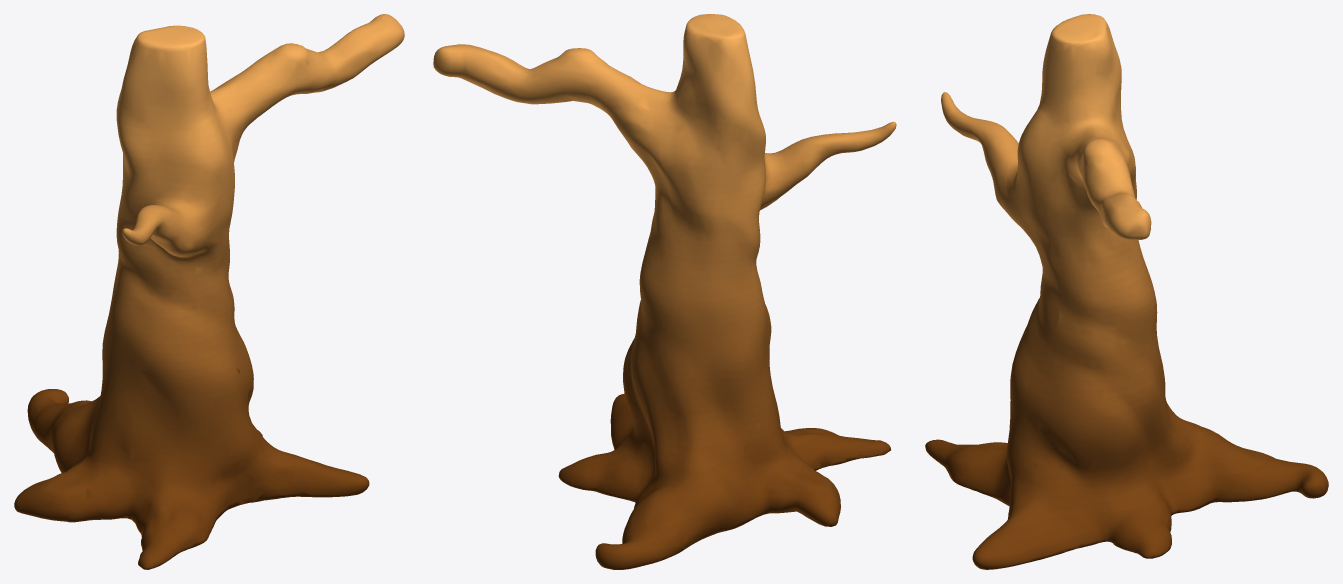
File: Trunk.fbx
3 views of the same model, side by side, from view 1: azimuth 30°, elevation 25°; view 2: azimuth 150°, elevation 25°; view 3: azimuth 270°, elevation 25° (orthographic). The views are drawn at different scales.
Parts seen in each view (by area): view 1: Trunk1.001; view 2: Trunk1.001; view 3: Trunk1.001.
Boxes of the visible parts, x1,y1,x2,y2 form: Trunk1.001: [14, 14, 404, 569]; Trunk1.001: [433, 14, 896, 569]; Trunk1.001: [925, 14, 1328, 569].
Bounding box in the file's own units: 36.09 × 31.17 × 40.06.
